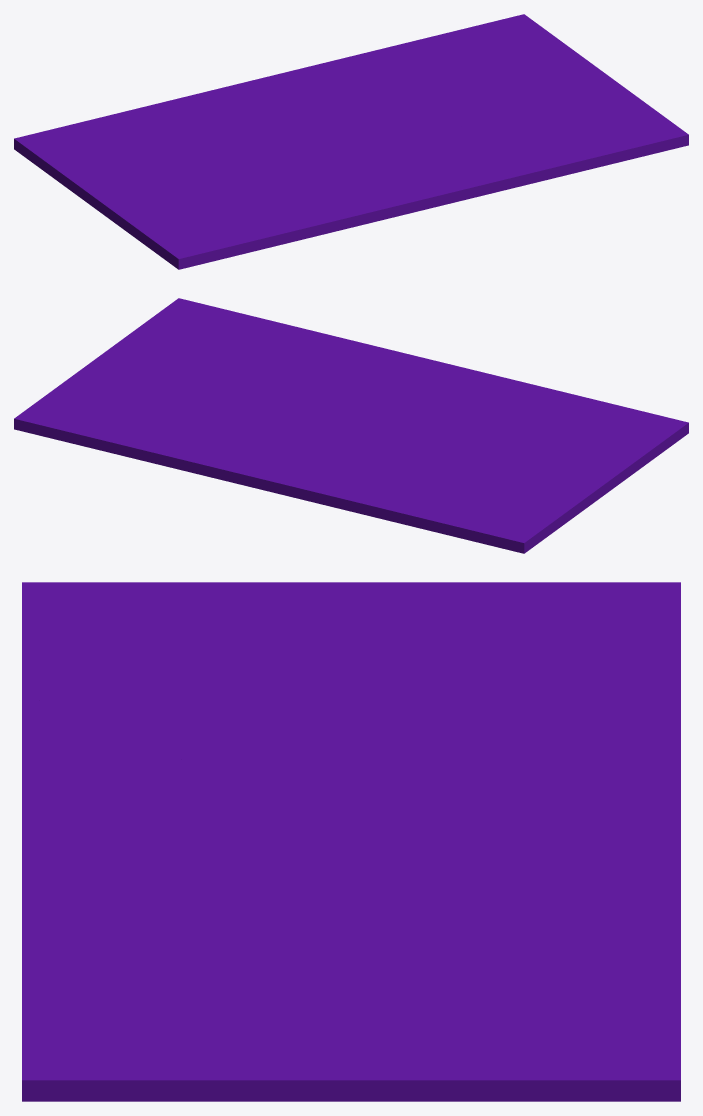
File: Exhibition_19.001_chunks.fbx
The picture shows the model from 3 angles, top to bottom: view 1: azimuth 30°, elevation 25°; view 2: azimuth 150°, elevation 25°; view 3: azimuth 270°, elevation 25°; orthographic projection. The views are drawn at different scales.
Parts seen in each view (by area): view 1: Exhibition_19.001_3, Exhibition_19.001_2, Exhibition_19.001_0; view 2: Exhibition_19.001_3, Exhibition_19.001_2, Exhibition_19.001_0; view 3: Exhibition_19.001_3, Exhibition_19.001_2, Exhibition_19.001_0.
Boxes of the visible parts, <box> form: Exhibition_19.001_3: <box>14,84,349,269</box>; Exhibition_19.001_2: <box>238,14,654,135</box>; Exhibition_19.001_0: <box>293,109,688,240</box>; Exhibition_19.001_3: <box>300,394,688,553</box>; Exhibition_19.001_2: <box>14,323,349,499</box>; Exhibition_19.001_0: <box>145,298,573,421</box>; Exhibition_19.001_3: <box>22,582,680,830</box>; Exhibition_19.001_2: <box>149,800,680,1101</box>; Exhibition_19.001_0: <box>22,694,356,1101</box>.
Size of the model in its own units: 642 by 12.85 by 359.
